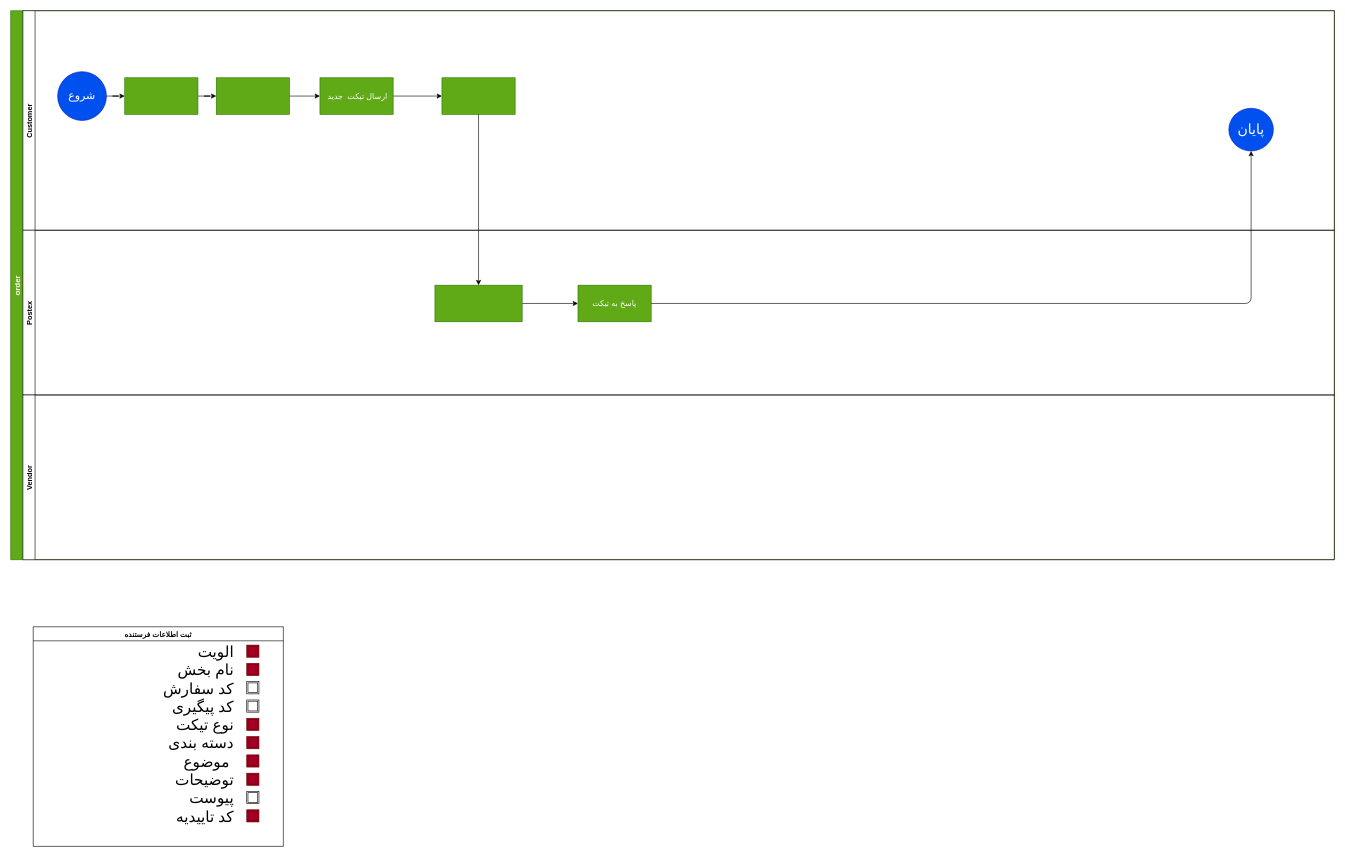
Some shapes in this 1345 by 857 pixel diagram are drawn without their labels. Here are the shapes that lost their labels. From the top down, the centre of each, then its label:
At point (161, 95): "حساب من".
At point (252, 95): "پشتیبانی".
At point (478, 95): "وارد کردن موارد تیکت".
At point (478, 303): "ارجاع تیکت به واحد مربوطه".
